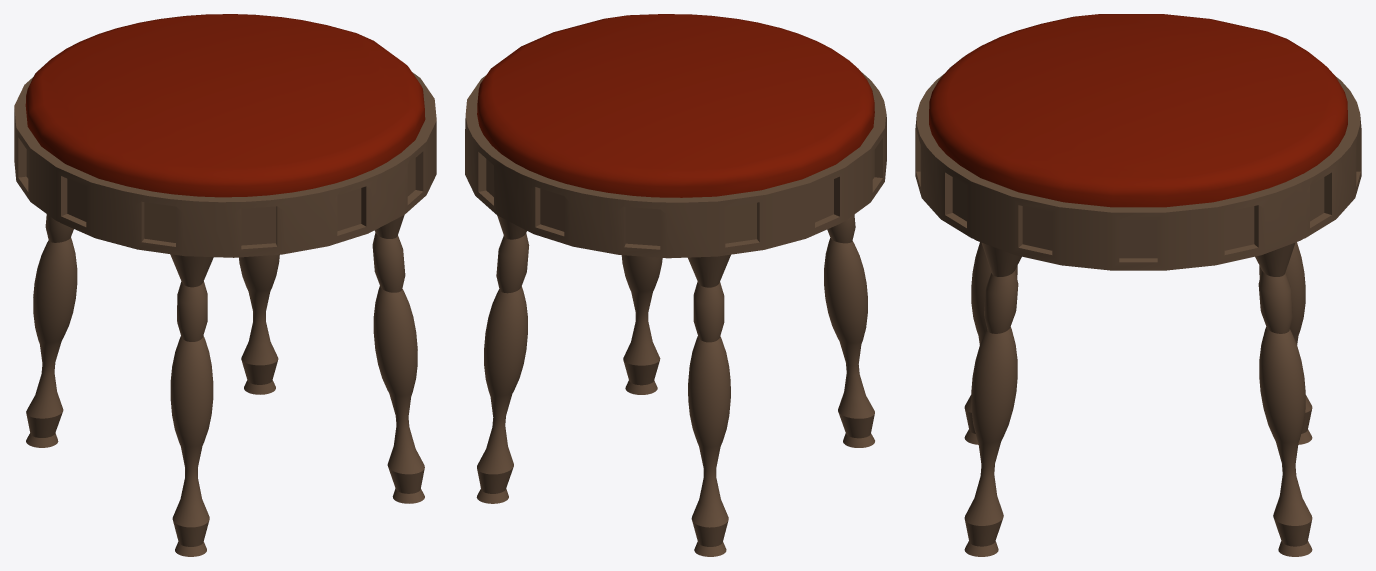
The model's file is BS_Barkruk.fbx.
3 views of the same model, side by side, from view 1: azimuth 30°, elevation 25°; view 2: azimuth 150°, elevation 25°; view 3: azimuth 270°, elevation 25° (orthographic). The views are drawn at different scales.
Visible parts, largest first — view 1: Cylinder.041; view 2: Cylinder.041; view 3: Cylinder.041.
Boxes of the visible parts, box(x1,y1,x2,y2) form: Cylinder.041: box(14, 14, 436, 556); Cylinder.041: box(465, 14, 886, 556); Cylinder.041: box(915, 14, 1361, 556).
Bounding box in the file's own units: 0.63 × 0.6239 × 0.6346.
